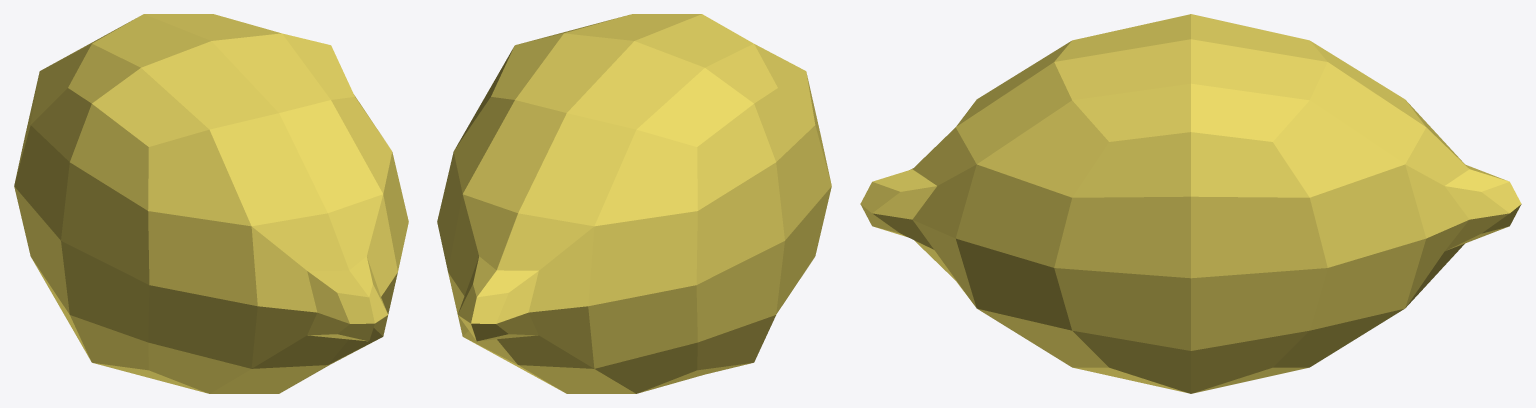
Rendered from lemopn (1).fbx.
3 renders of one model, left to right at view 1: azimuth 30°, elevation 25°; view 2: azimuth 150°, elevation 25°; view 3: azimuth 270°, elevation 25°, orthographic.
Visible parts, largest first — view 1: Cube; view 2: Cube; view 3: Cube.
Boxes of the visible parts, <box> form: Cube: <box>14,14,408,393</box>; Cube: <box>437,14,831,393</box>; Cube: <box>860,14,1521,393</box>.
Size of the model in its own units: 196 by 203 by 369.
